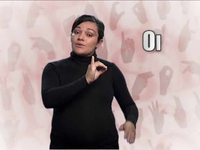oi: (87, 52, 108, 84)
